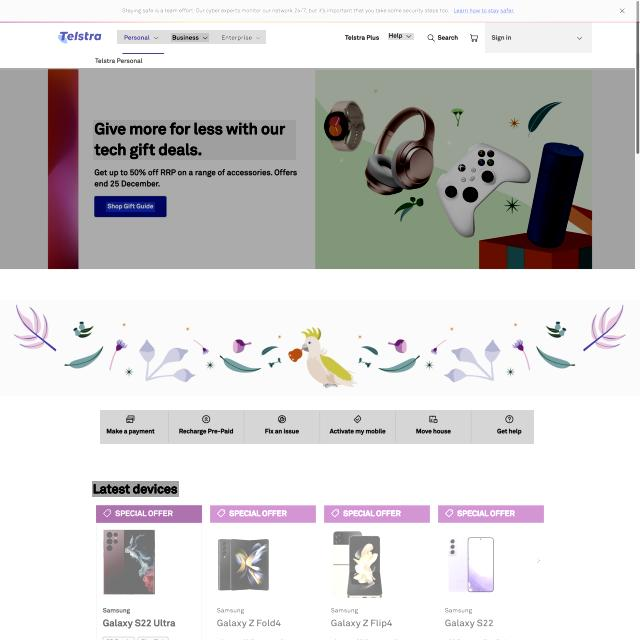CheckBox: (94, 195, 167, 218)
ProgressBar: (0, 0, 640, 22)
Spinner: (96, 505, 203, 640)
Switch: (93, 502, 549, 640)
accordion: (0, 300, 640, 396)
alert: (485, 22, 592, 53), (119, 33, 161, 42), (220, 33, 262, 42), (171, 33, 209, 42), (388, 34, 414, 42)
bag: (0, 0, 640, 70)
breadcrumbs: (92, 481, 179, 497)
card: (0, 68, 635, 269)
carousel: (529, 550, 548, 569)
data feed: (106, 202, 155, 212)
date picker: (54, 26, 105, 48)
decoration: (100, 410, 534, 444), (117, 30, 266, 44)
image: (93, 120, 296, 160)
